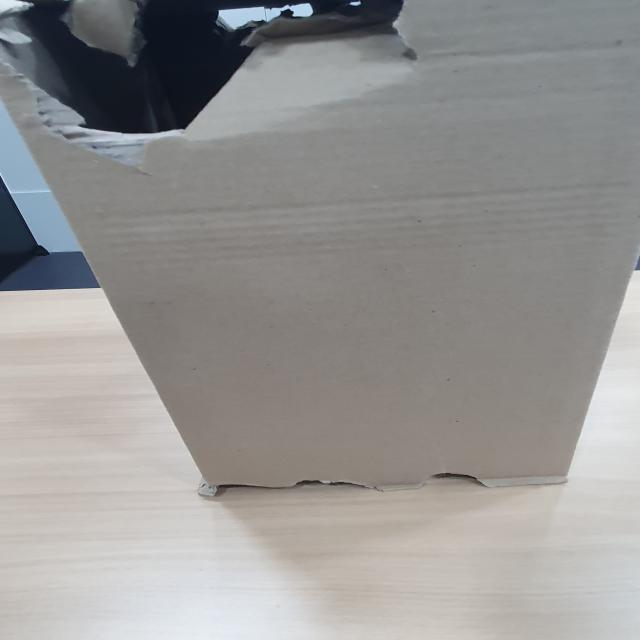hole: (0, 1, 431, 141), (206, 466, 521, 506)
